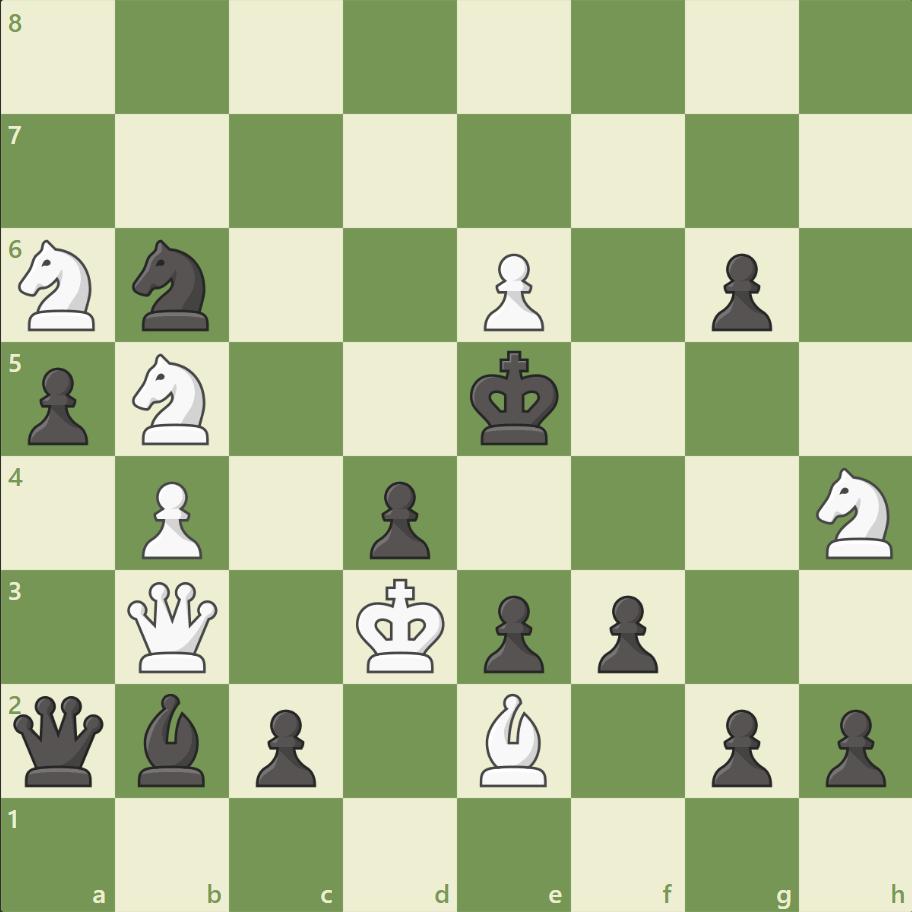B: (471, 687, 555, 790)
K: (351, 571, 451, 679)
N: (124, 348, 222, 450), (11, 234, 108, 337), (806, 461, 903, 564)
P: (474, 246, 549, 337), (133, 473, 208, 564)
Q: (124, 576, 223, 676)
b: (131, 687, 215, 790)
k: (465, 344, 565, 452)
n: (124, 234, 222, 337)
p: (701, 246, 776, 337), (20, 359, 95, 450), (474, 586, 549, 677), (247, 700, 322, 791), (701, 700, 776, 791), (361, 473, 435, 564), (588, 586, 662, 677), (815, 700, 889, 791)
q: (10, 690, 109, 789)
